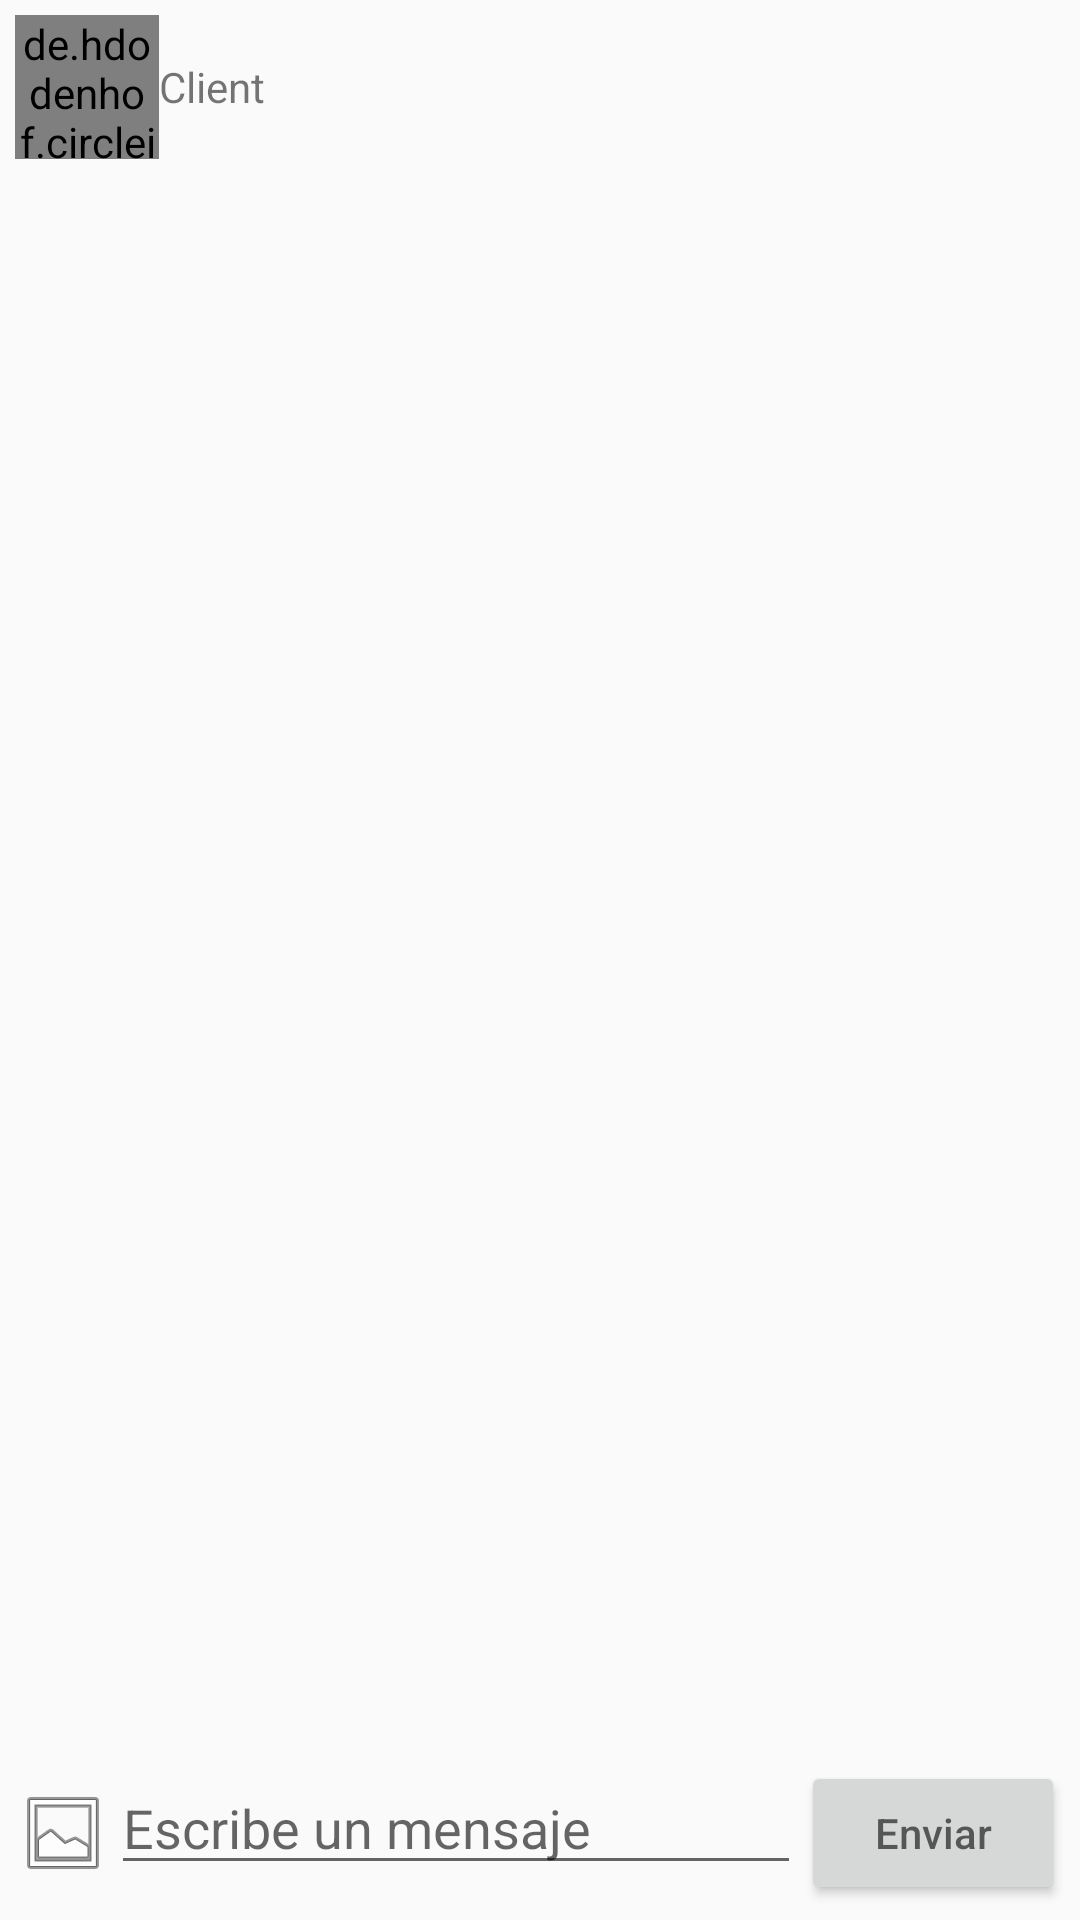

Where to tap for icons on this 1080px×1920px app screen, as (x=x, y=y):
gallery: (x=63, y=1833)
